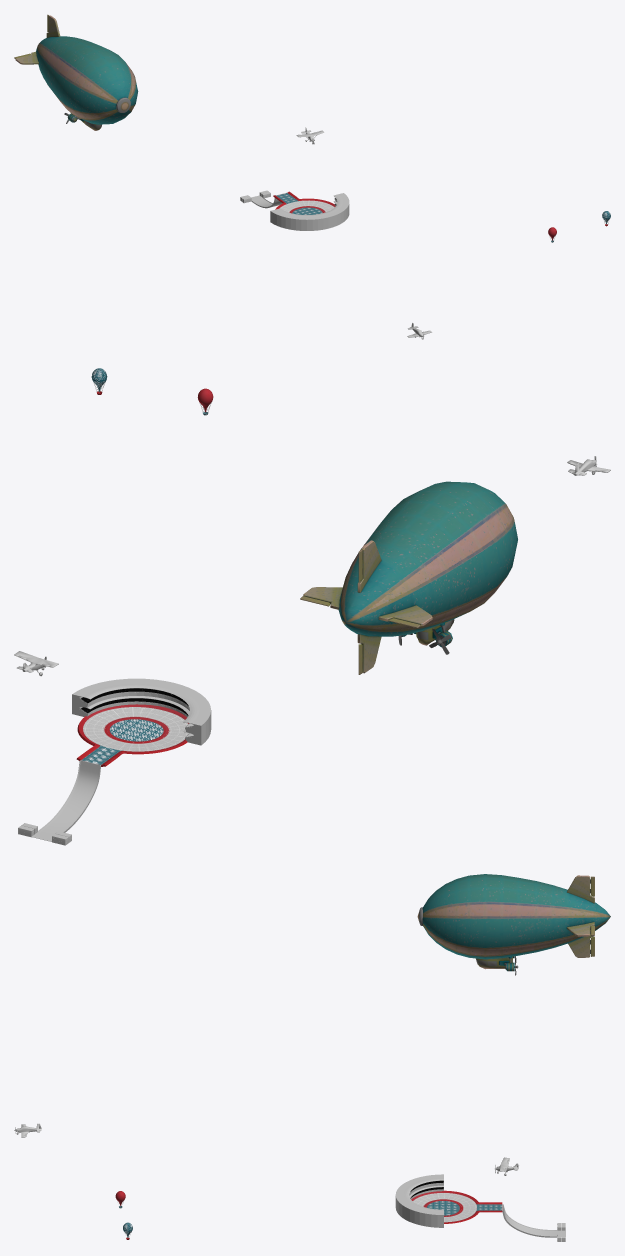
File: level 3.fbx
3 renders of one model, top to bottom at view 1: azimuth 30°, elevation 25°; view 2: azimuth 150°, elevation 25°; view 3: azimuth 270°, elevation 25°, orthographic. The views are drawn at different scales.
Parts seen in each view (by area): view 1: air_ball, people, end_point; view 2: air_ball, end_point, people, stunt; view 3: air_ball, people, end_point.
Boxes of the visible parts, bbox=[...] form: air_ball: bbox=[14, 14, 138, 130]; people: bbox=[270, 193, 349, 230]; end_point: bbox=[273, 191, 335, 214]; air_ball: bbox=[300, 481, 517, 674]; end_point: bbox=[76, 704, 188, 766]; people: bbox=[72, 678, 211, 745]; stunt: bbox=[38, 760, 100, 835]; air_ball: bbox=[417, 874, 610, 971]; people: bbox=[395, 1174, 443, 1227]; end_point: bbox=[411, 1190, 502, 1223].
Bounding box in the file's own units: 57257 × 30972 × 66580.
